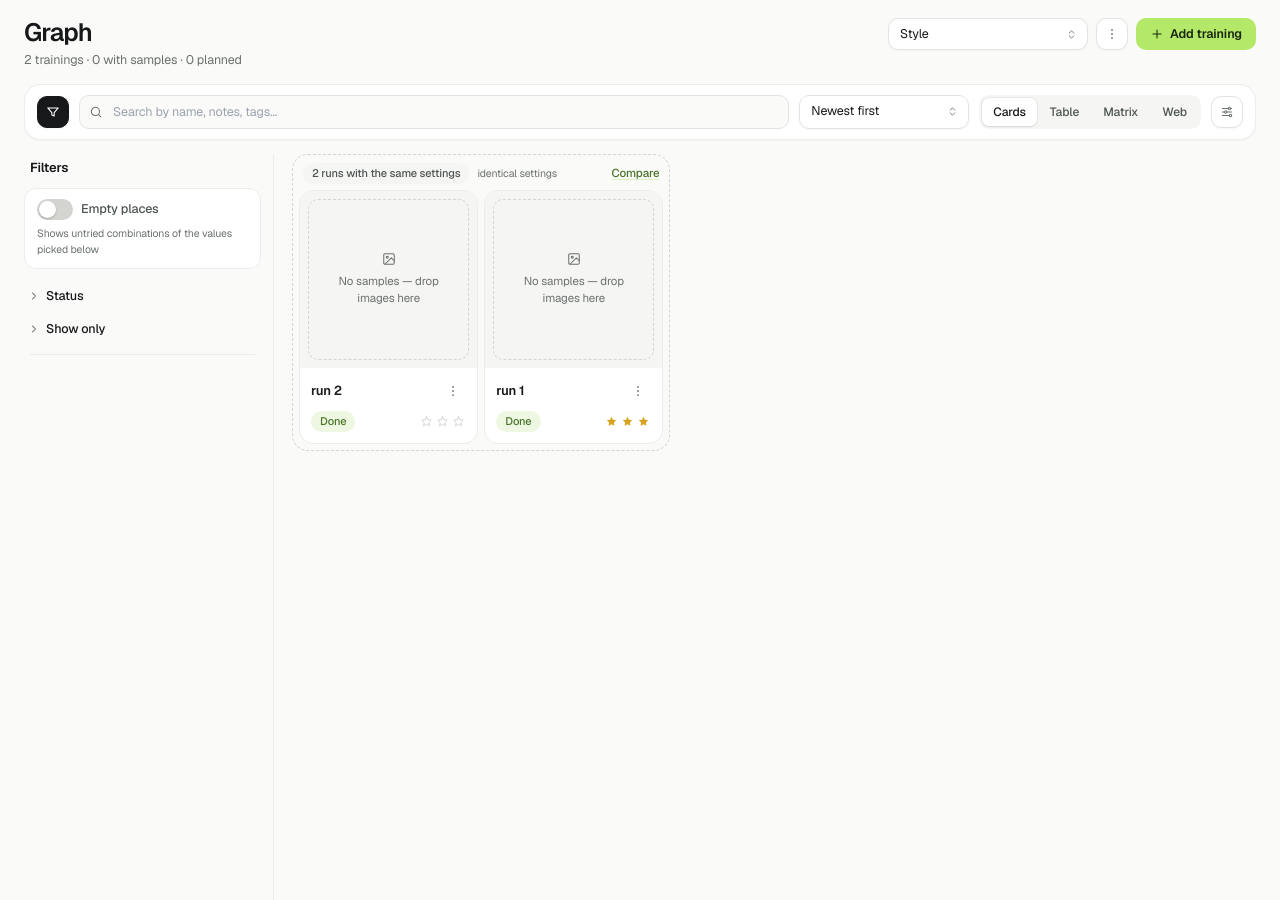
Test: GraphPage › loads queue trainings for empty board
Expected: the text "run 1" is shown, [496,382,524,399]
Step 1. Click the button "Add training" → [1196, 34], box [1136,18,1256,50]
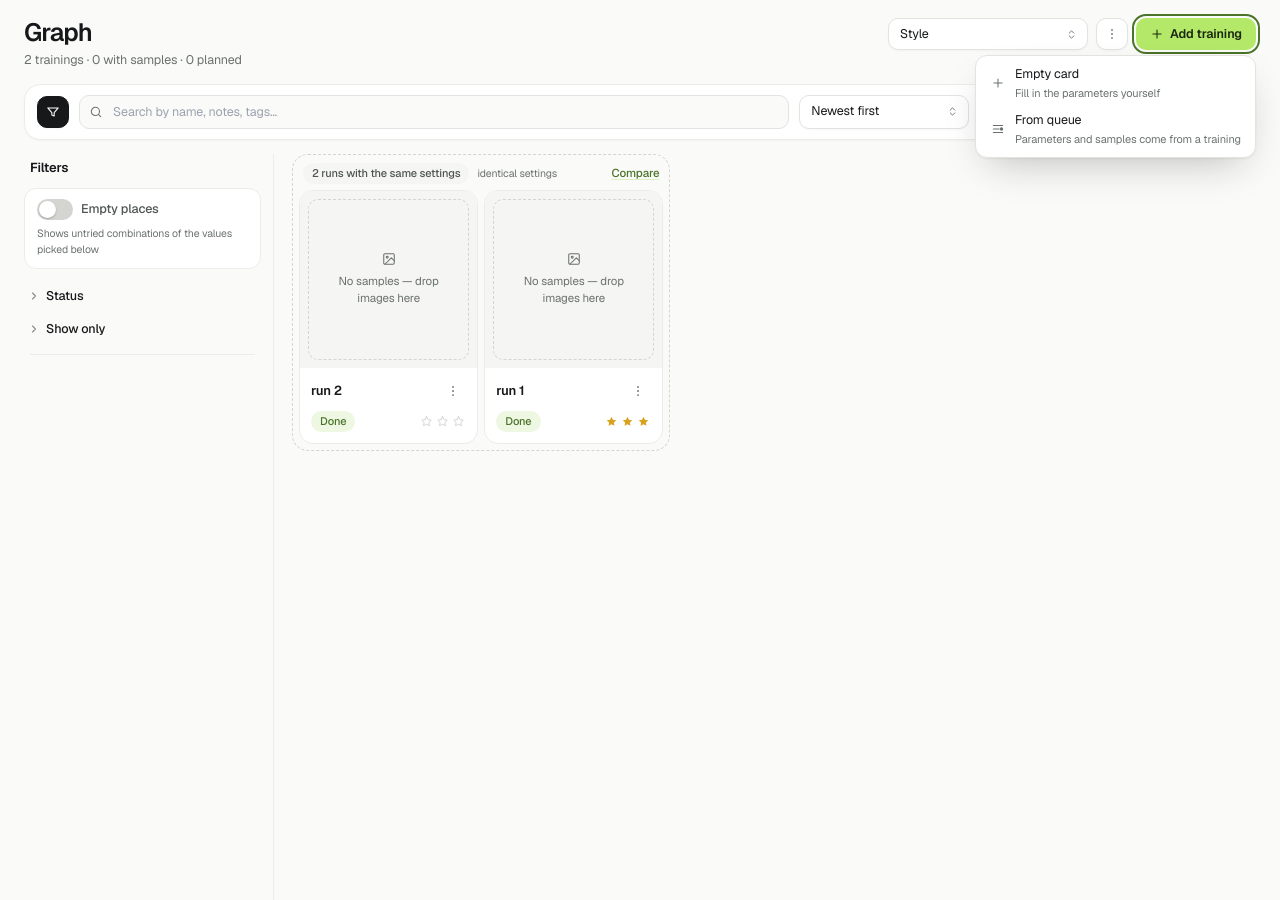
Step 2. Click the menu item "From queue Parameters and samples come from a training" → [1115, 129], box [980,106,1251,153]
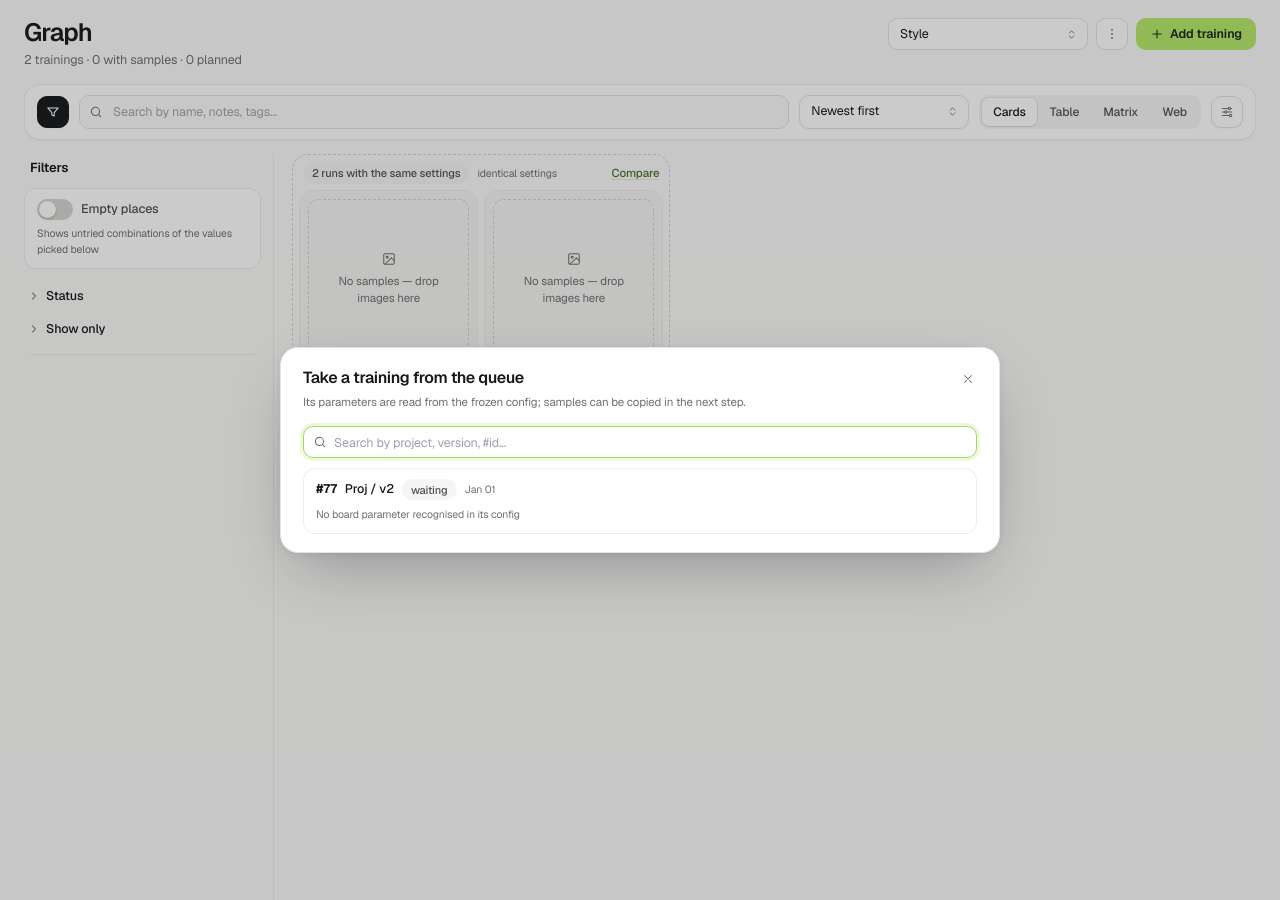
Result: the text "#77" is shown at [316,480,337,499]
